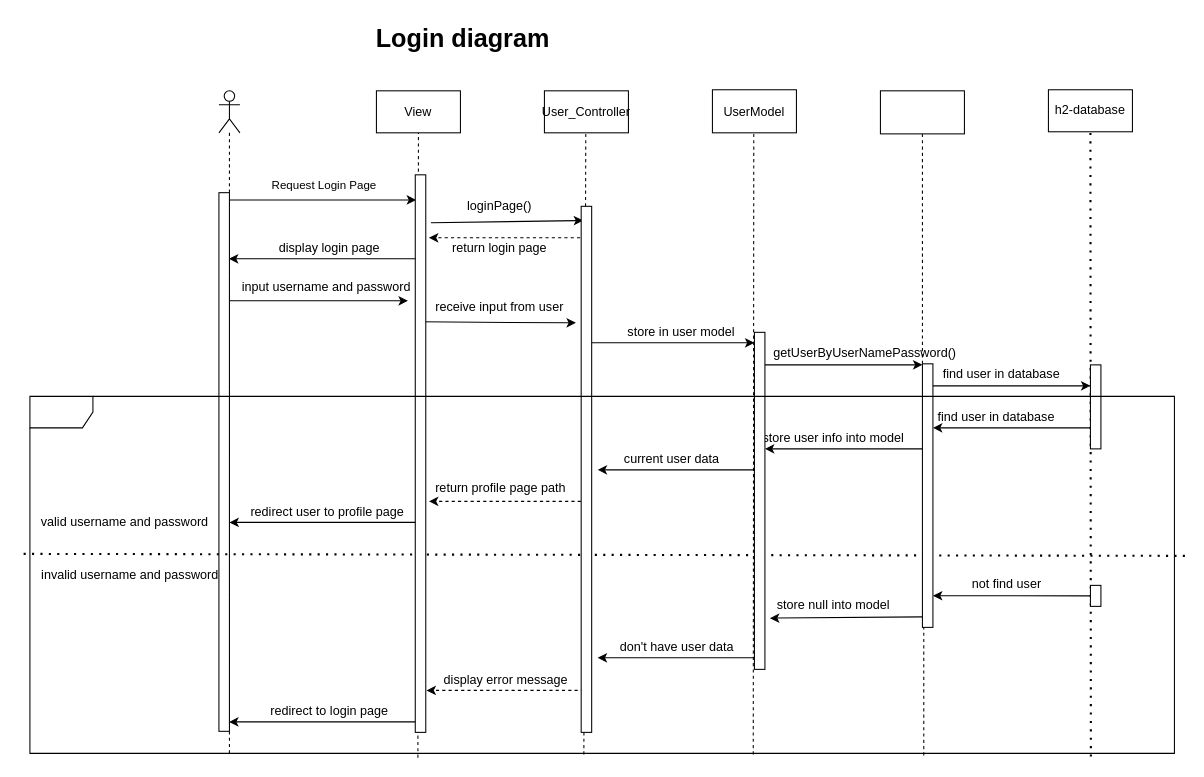
Image size: 1204x777. Some labels were removed from this diagram. The box of each missing label's shape, as (x1, y1, x2, y2) in pixels:
alt: (29, 395, 1174, 753)
UserDAO: (879, 90, 964, 134)
